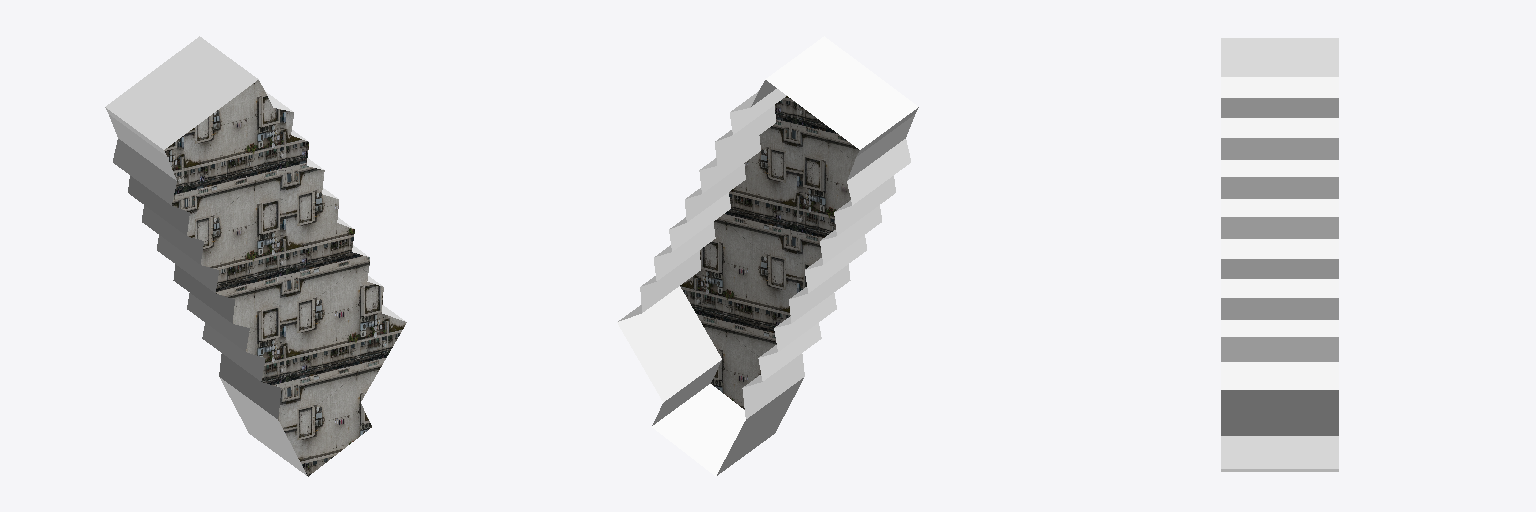
The picture shows the model from 3 angles: view 1: azimuth 30°, elevation 25°; view 2: azimuth 150°, elevation 25°; view 3: azimuth 270°, elevation 25°; orthographic projection.
Visible parts, largest first — view 1: Building; view 2: Building; view 3: Building.
Boxes of the visible parts, box(x1,y1,x2,y2) form: Building: box(105, 36, 406, 476); Building: box(617, 36, 918, 476); Building: box(1221, 38, 1338, 471).
Bounding box in the file's own units: 28.47 × 45.83 × 12.
2 materials, 1 textured.